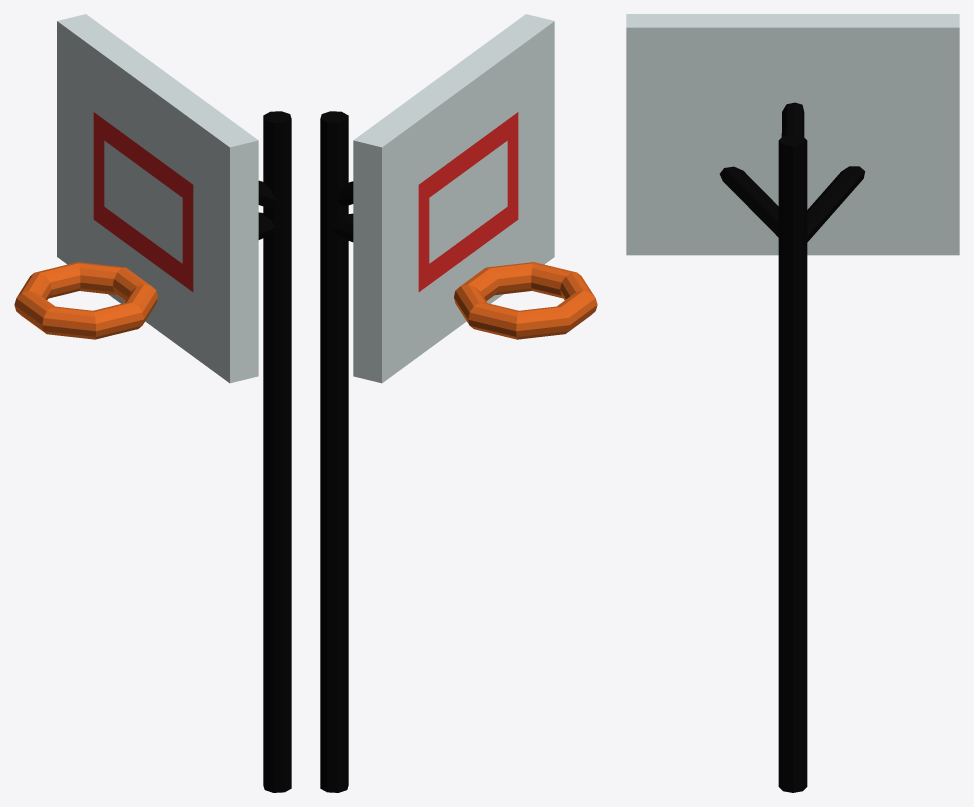
The model's file is hoopfixed.fbx.
3 renders of one model, left to right at view 1: azimuth 30°, elevation 25°; view 2: azimuth 150°, elevation 25°; view 3: azimuth 270°, elevation 25°, orthographic. The views are drawn at different scales.
Visible parts, largest first — view 1: Cube, Cylinder, Torus; view 2: Cube, Cylinder, Torus; view 3: Cube, Cylinder, Cylinder.002, Cylinder.001, Cylinder.003.
Boxes of the visible parts, left/top/right/bottom form: Cube: left=57, top=14, right=258, bottom=383; Cylinder: left=263, top=111, right=291, bottom=792; Torus: left=14, top=262, right=157, bottom=339; Cube: left=353, top=14, right=554, bottom=383; Cylinder: left=320, top=111, right=348, bottom=792; Torus: left=454, top=262, right=597, bottom=339; Cube: left=626, top=14, right=959, bottom=255; Cylinder: left=778, top=134, right=807, bottom=792; Cylinder.002: left=807, top=166, right=865, bottom=242; Cylinder.001: left=719, top=166, right=778, bottom=237; Cylinder.003: left=781, top=102, right=804, bottom=136.
Size of the model in its own units: 936 by 2511 by 1069.
